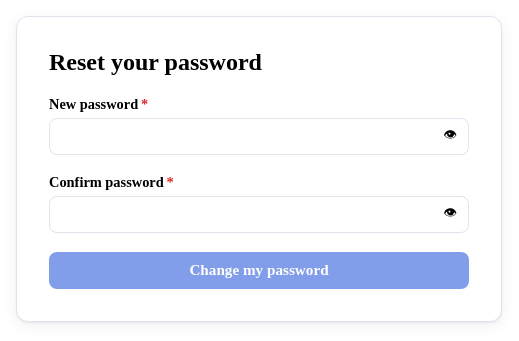
Test: Password reset › confirms with uid/token from the route
Type "New-passw0rd!" into the password field labelled "New password*" at [259, 137], box [49,118,469,155]
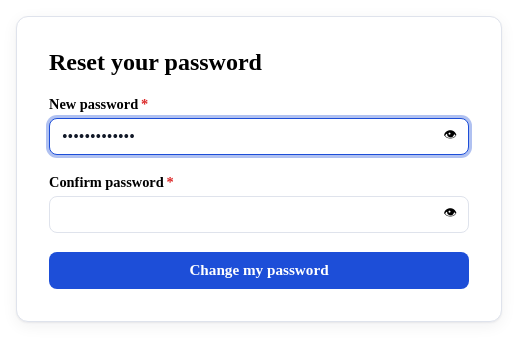
Type "New-passw0rd!" into the password field labelled "Confirm password*" at [259, 214], box [49,196,469,233]
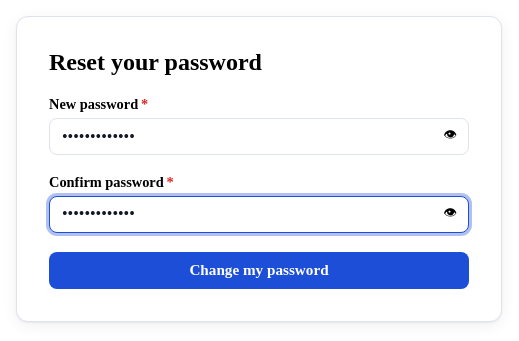
Click the button "Change my password" at [259, 270], box [49,252,469,289]
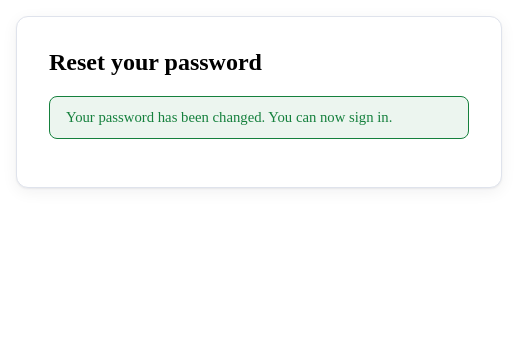
Result: the text "Your password has been changed. You can now sign in." is shown at [66,109,392,125]
